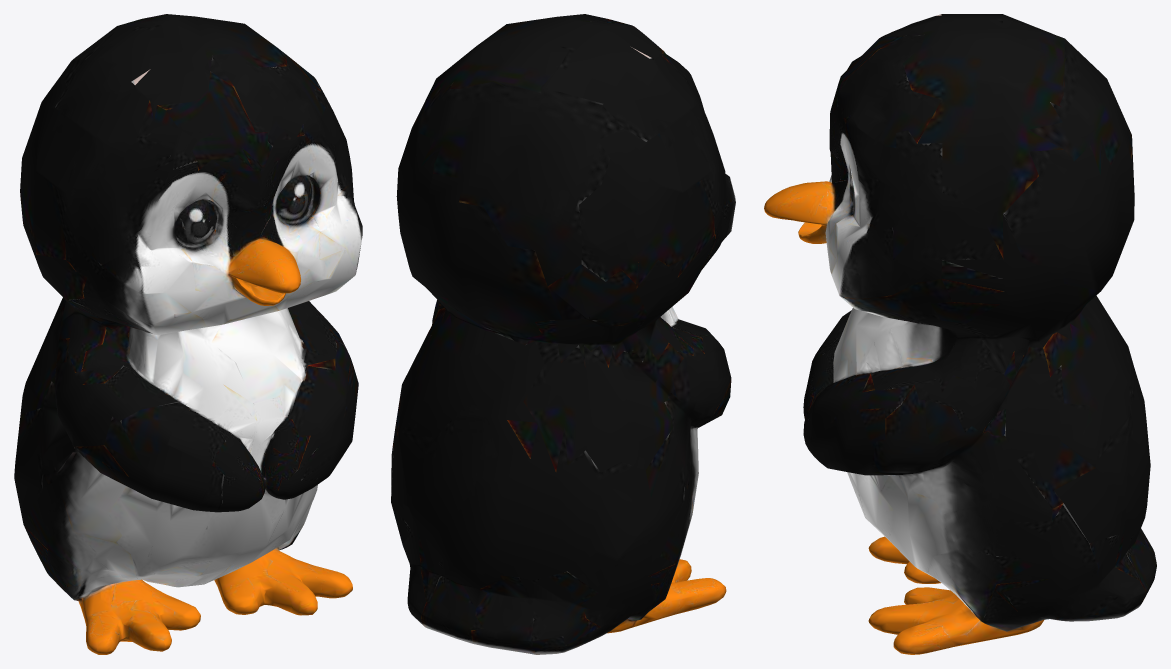
File: penguin.glb
3 views of the same model, side by side, from view 1: azimuth 30°, elevation 25°; view 2: azimuth 150°, elevation 25°; view 3: azimuth 270°, elevation 25° (orthographic).
Bounding box in the file's own units: 0.9618 × 1.9 × 1.19.
1 material, 1 textured.
